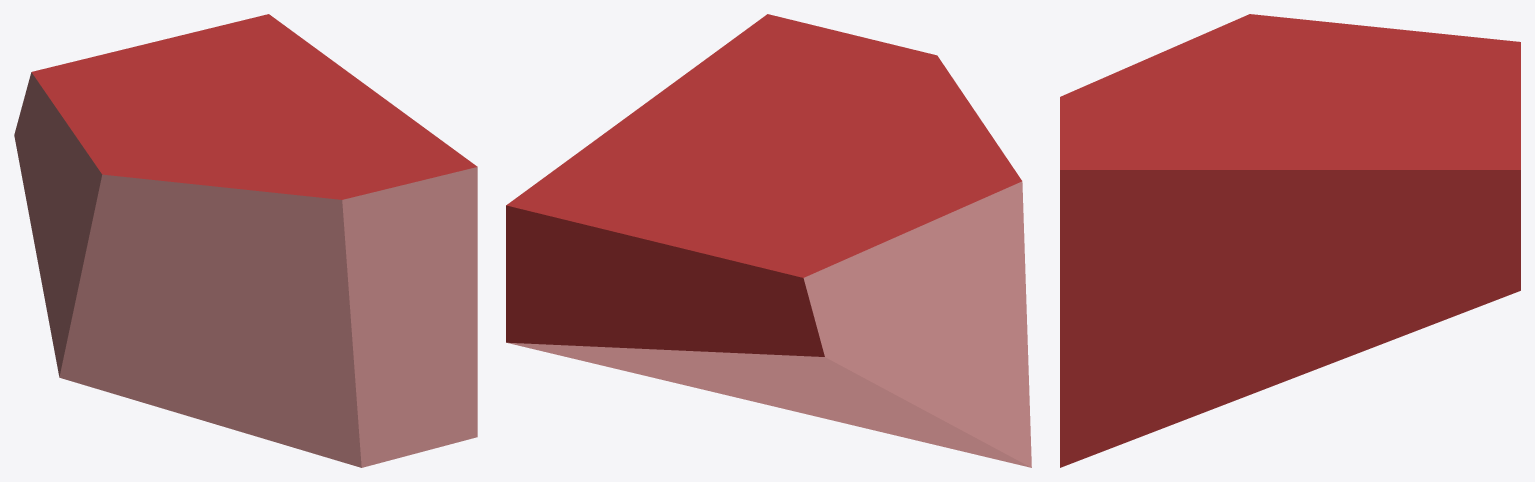
The model's file is wrong1.fbx.
3 views of the same model, side by side, from view 1: azimuth 30°, elevation 25°; view 2: azimuth 150°, elevation 25°; view 3: azimuth 270°, elevation 25° (orthographic). The views are drawn at different scales.
Visible parts, largest first — view 1: wrong1; view 2: wrong1; view 3: wrong1.
Boxes of the visible parts, x1=… form: wrong1: x1=14, y1=14, x2=477, y2=467; wrong1: x1=506, y1=14, x2=1031, y2=467; wrong1: x1=1060, y1=14, x2=1520, y2=467.
Bounding box in the file's own units: 50.75 × 42.03 × 58.33.
